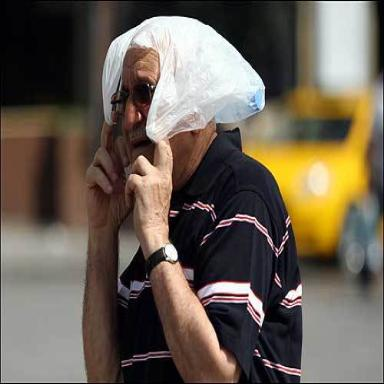plasticbag: (99, 11, 267, 141)
